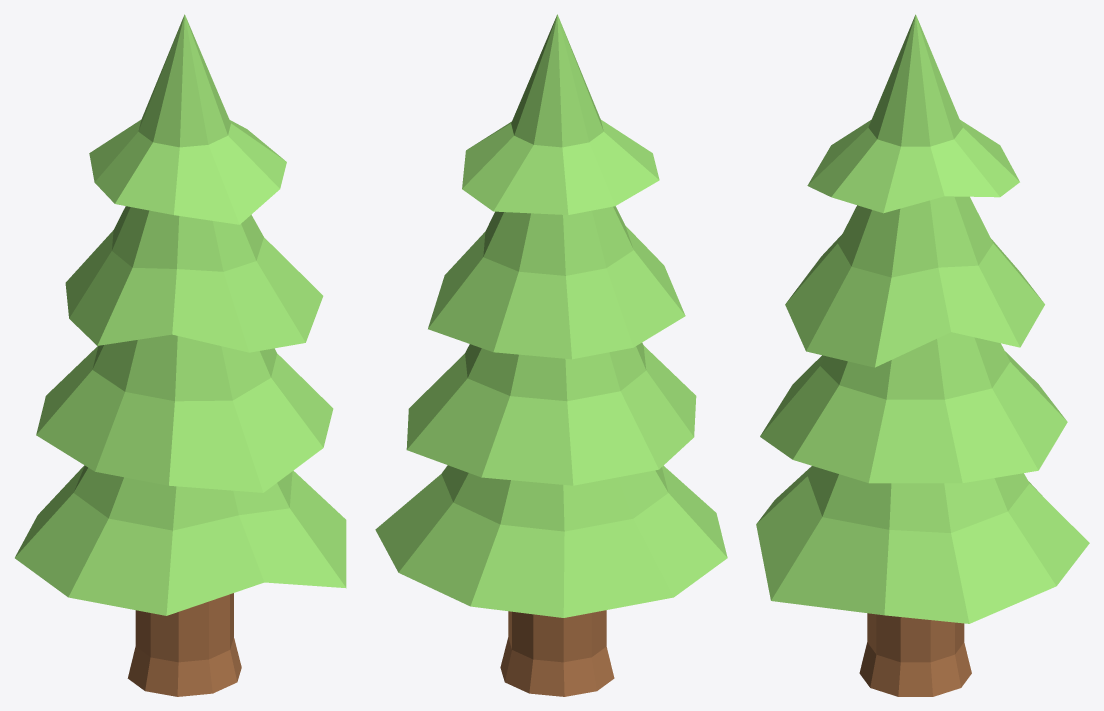
Rendered from Tree2.fbx.
The picture shows the model from 3 angles, left to right: view 1: azimuth 30°, elevation 25°; view 2: azimuth 150°, elevation 25°; view 3: azimuth 270°, elevation 25°; orthographic projection.
Visible parts, largest first — view 1: Tree2; view 2: Tree2; view 3: Tree2.
Part boxes in pixels (<box>): Tree2: <box>15,14,346,696</box>; Tree2: <box>375,14,727,696</box>; Tree2: <box>756,14,1089,696</box>.
Bounding box in the file's own units: 363 × 765 × 351.
